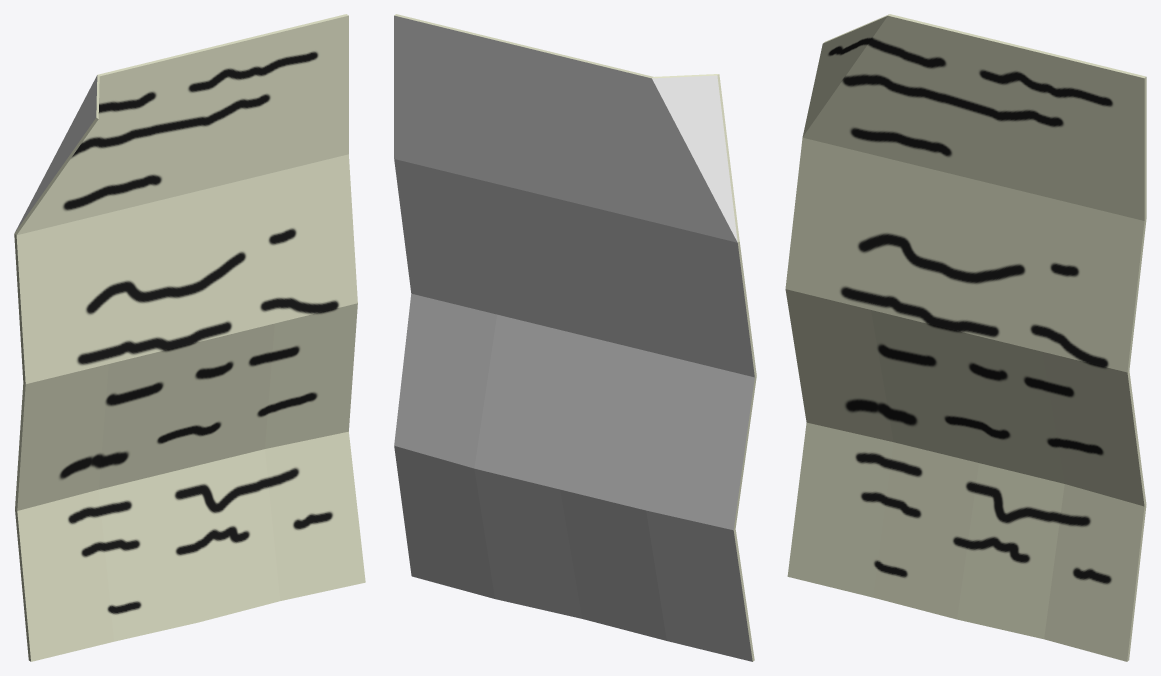
The model's file is page.glb.
The picture shows the model from 3 angles, left to right: view 1: azimuth 30°, elevation 25°; view 2: azimuth 150°, elevation 25°; view 3: azimuth 330°, elevation 25°; orthographic projection. The views are drawn at different scales.
Parts seen in each view (by area): view 1: Page; view 2: Page; view 3: Page.
Boxes of the visible parts, left/top/right/bottom form: Page: left=14, top=14, right=365, bottom=661; Page: left=394, top=14, right=756, bottom=661; Page: left=785, top=14, right=1146, bottom=661.
Bounding box in the file's own units: 1.39 × 2.18 × 0.2606.
Materials: 2 (1 with a texture image).
